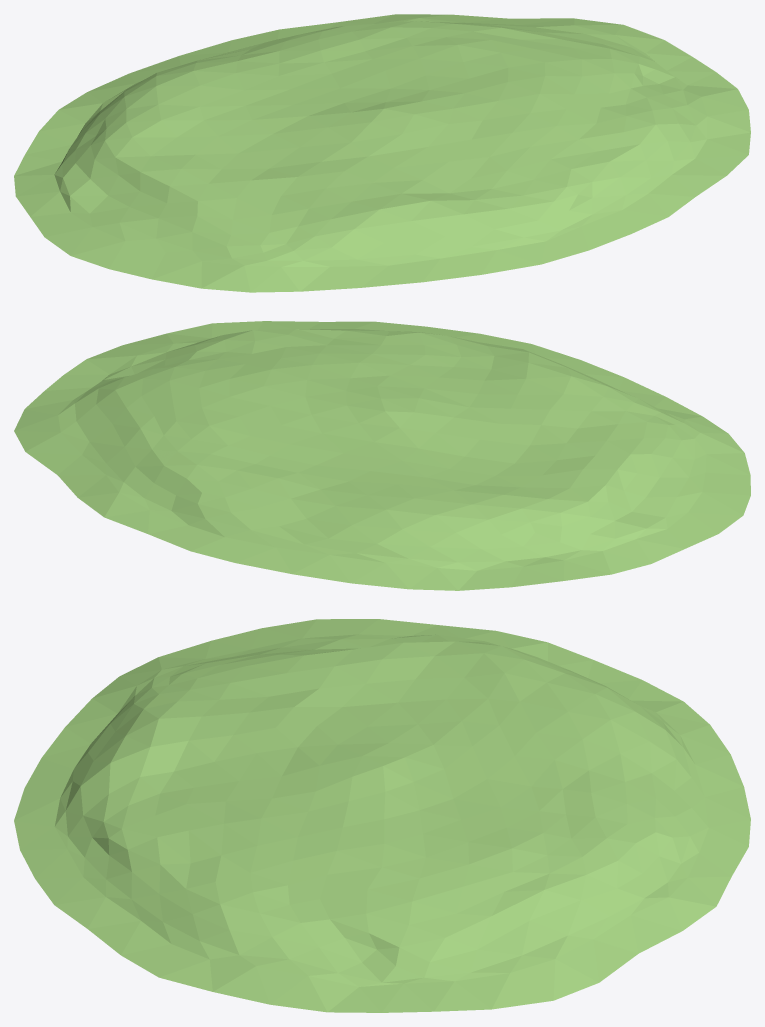
The model's file is GRoundLump_01.fbx.
3 renders of one model, top to bottom at view 1: azimuth 30°, elevation 25°; view 2: azimuth 150°, elevation 25°; view 3: azimuth 270°, elevation 25°, orthographic. The views are drawn at different scales.
Visible parts, largest first — view 1: GroundLump1; view 2: GroundLump1; view 3: GroundLump1.
Boxes of the visible parts, box(x1,y1,x2,y2) form: GroundLump1: box(14, 14, 750, 292); GroundLump1: box(14, 321, 750, 590); GroundLump1: box(14, 619, 750, 1012).
Bounding box in the file's own units: 7610 × 476 × 6016.
